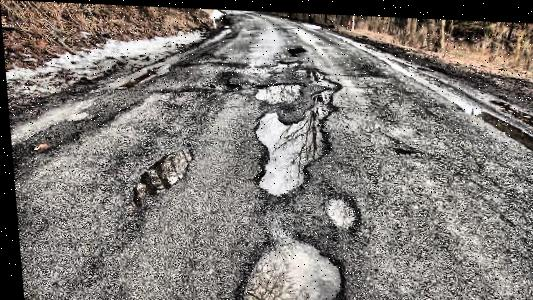pothole: (226, 230, 346, 300), (249, 107, 334, 195), (124, 140, 197, 207), (302, 61, 340, 113), (320, 190, 358, 230), (251, 77, 305, 102), (272, 55, 301, 66)
